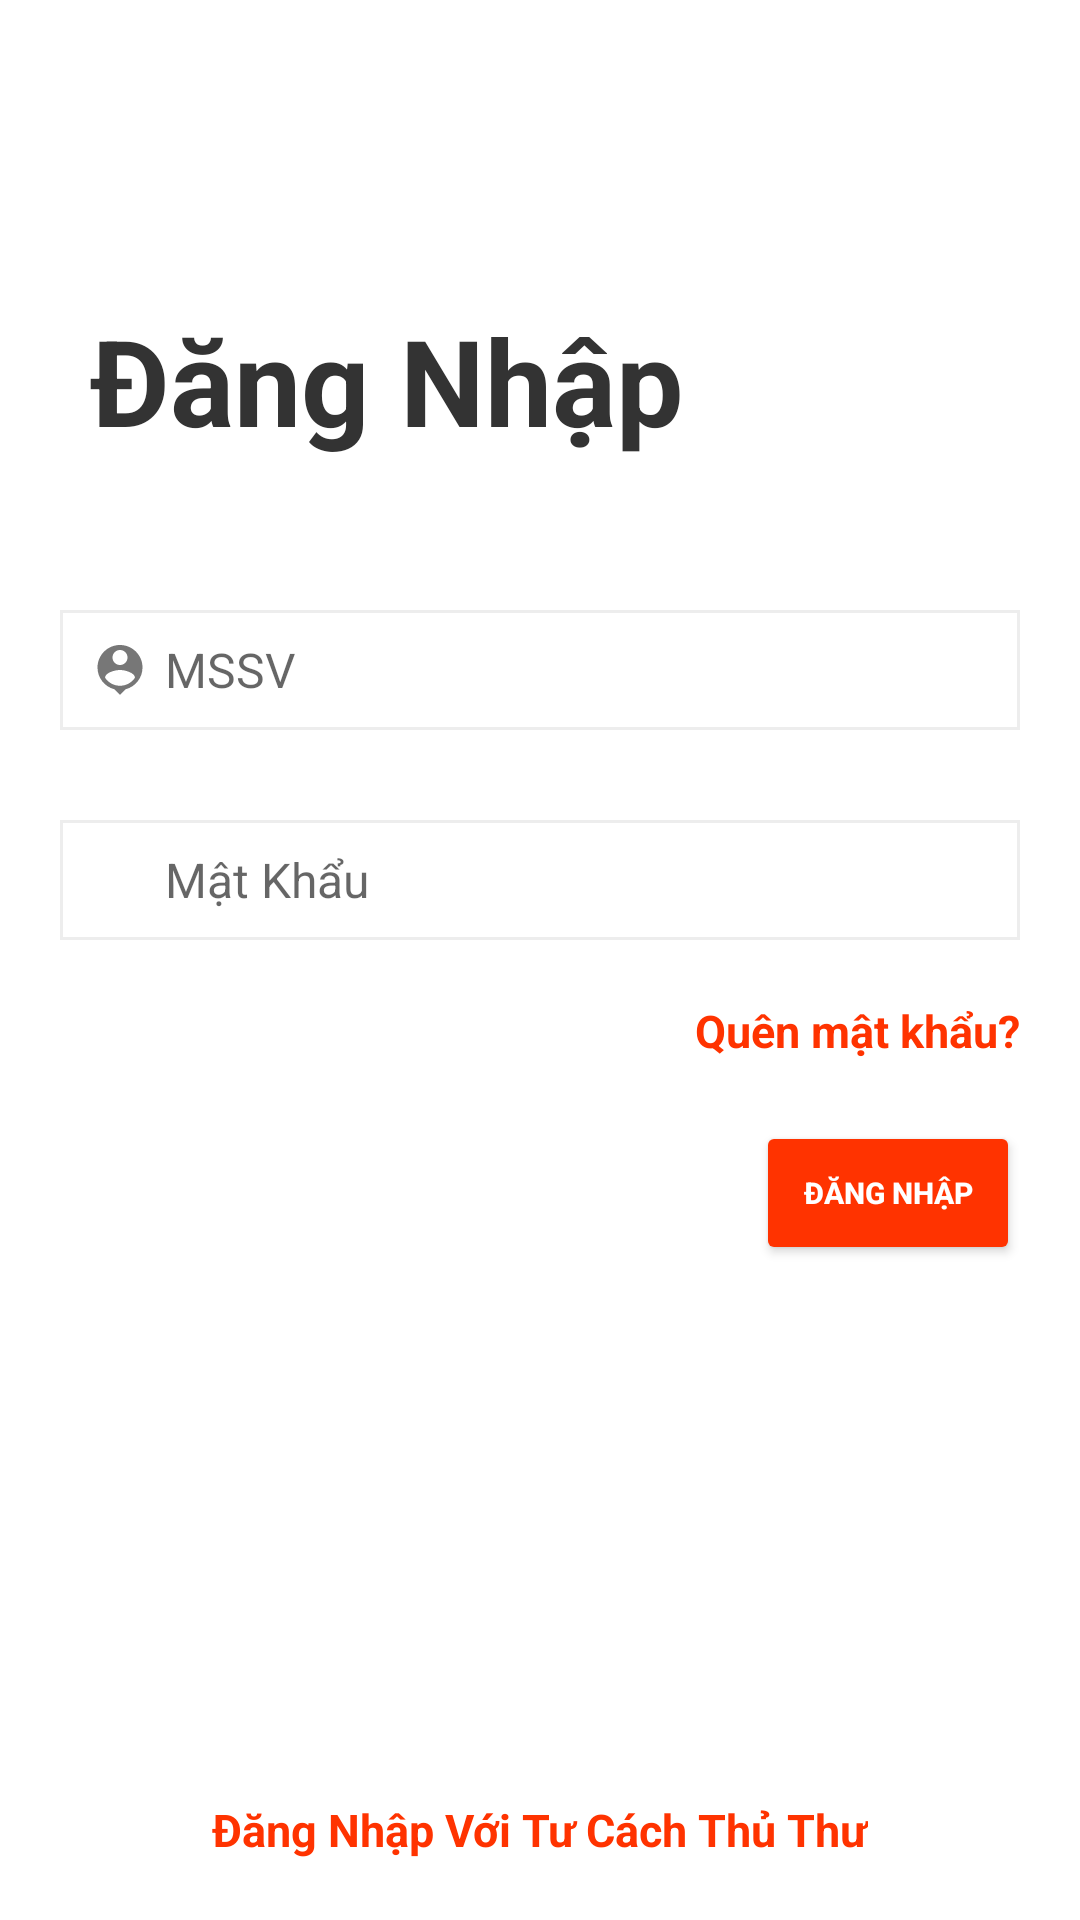

Screen size 1080×1920. Icon name, then its center in pixels as (x,y):
person pin: (120,670)
